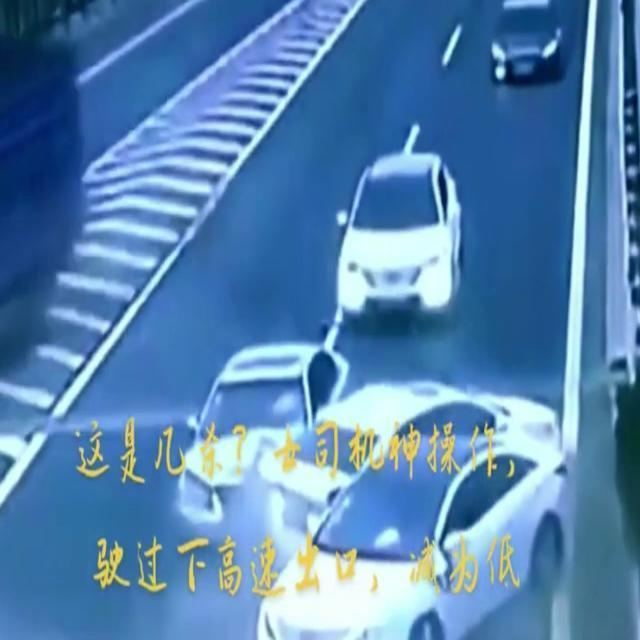accident: (173, 340, 582, 640)
